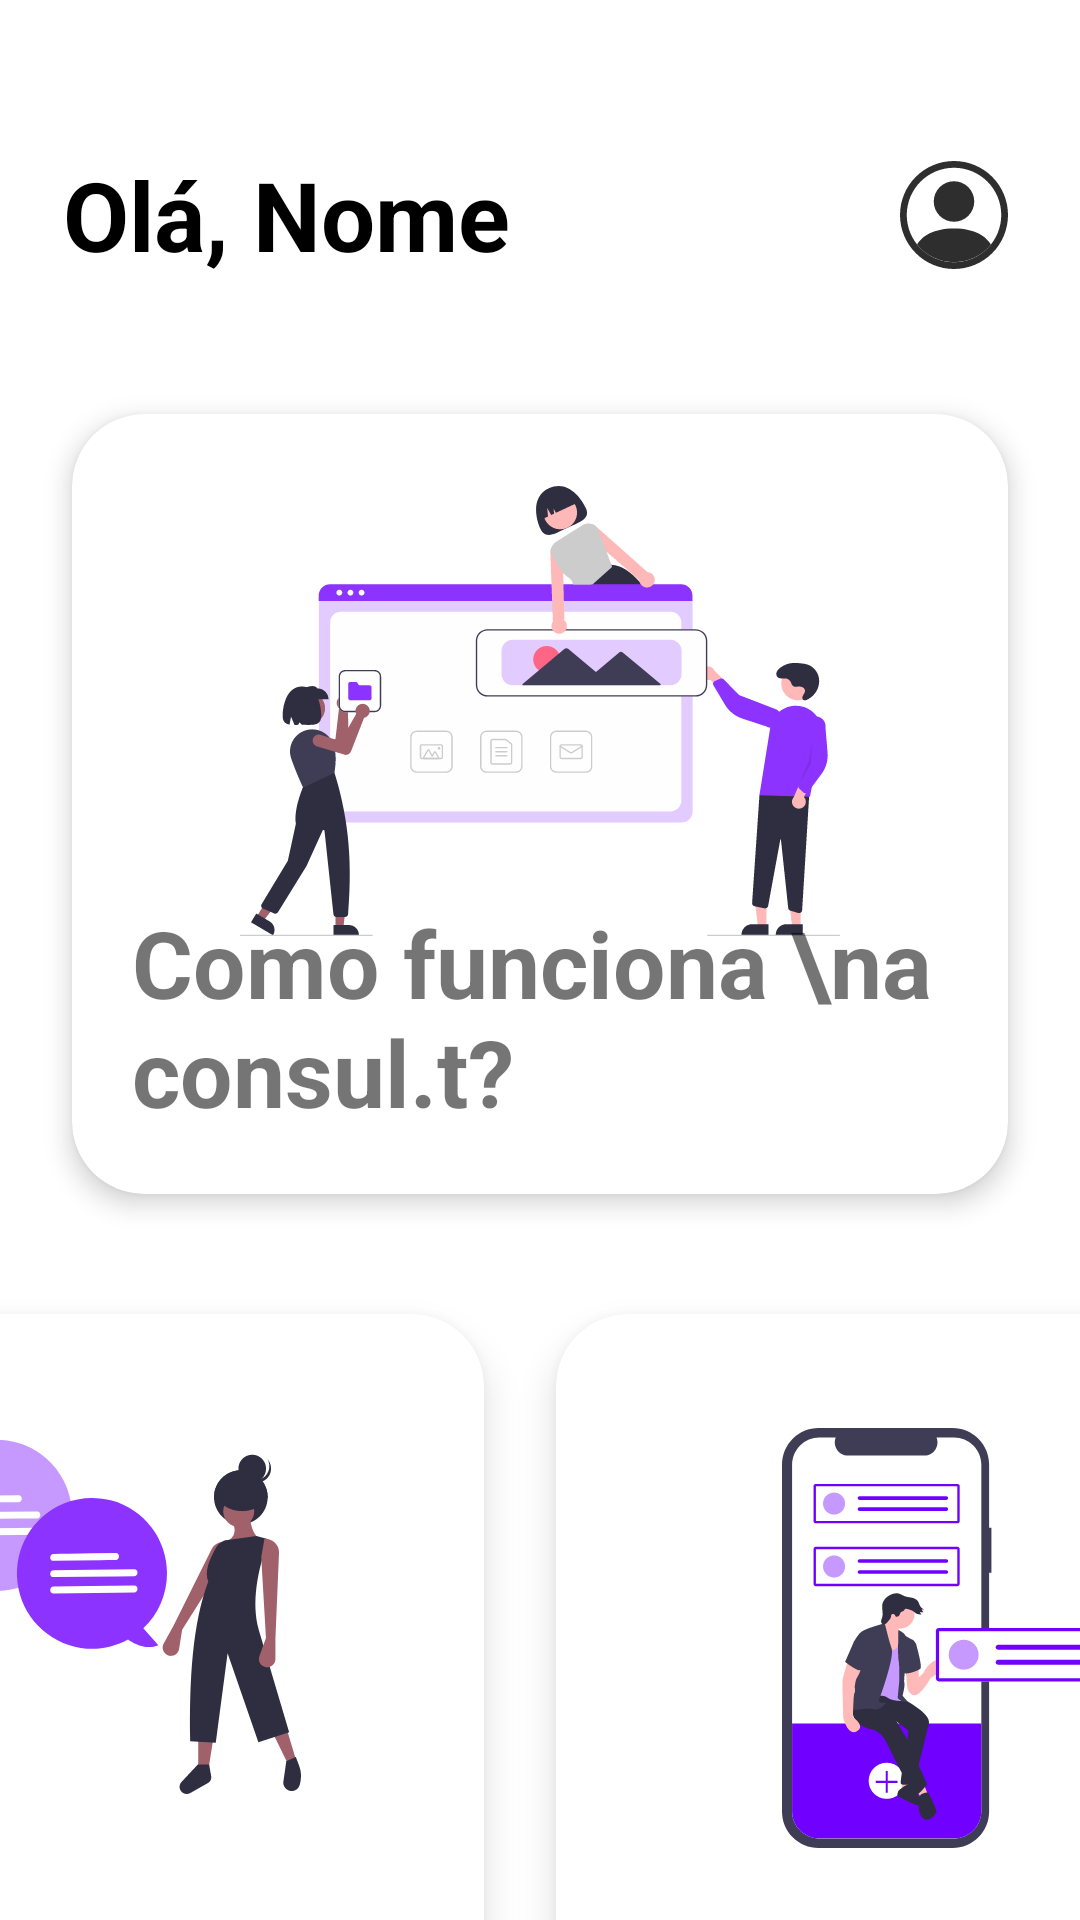

Named icons in this screenshot (1080 × 1920) and their centers, (x=x, y=y):
people circle: (x=954, y=215)
